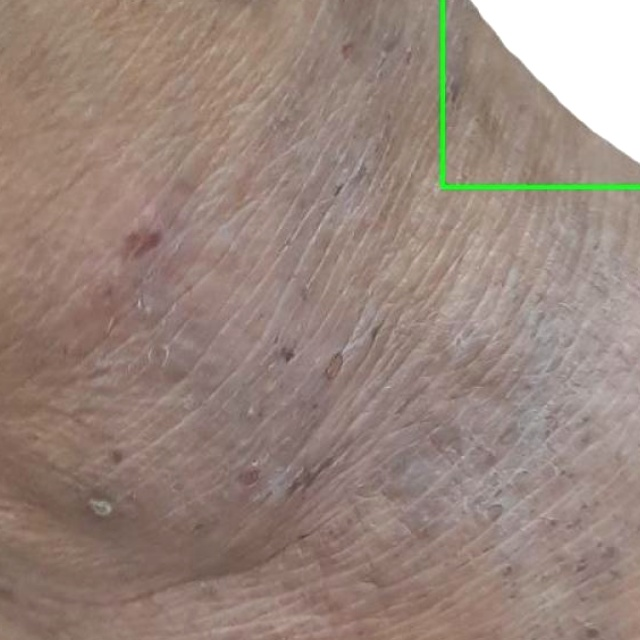Contact Dermatitis: (442, 0, 639, 187)
